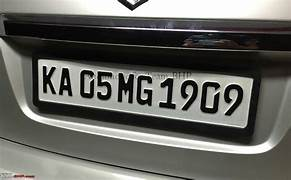number_plate: (37, 58, 247, 123)
